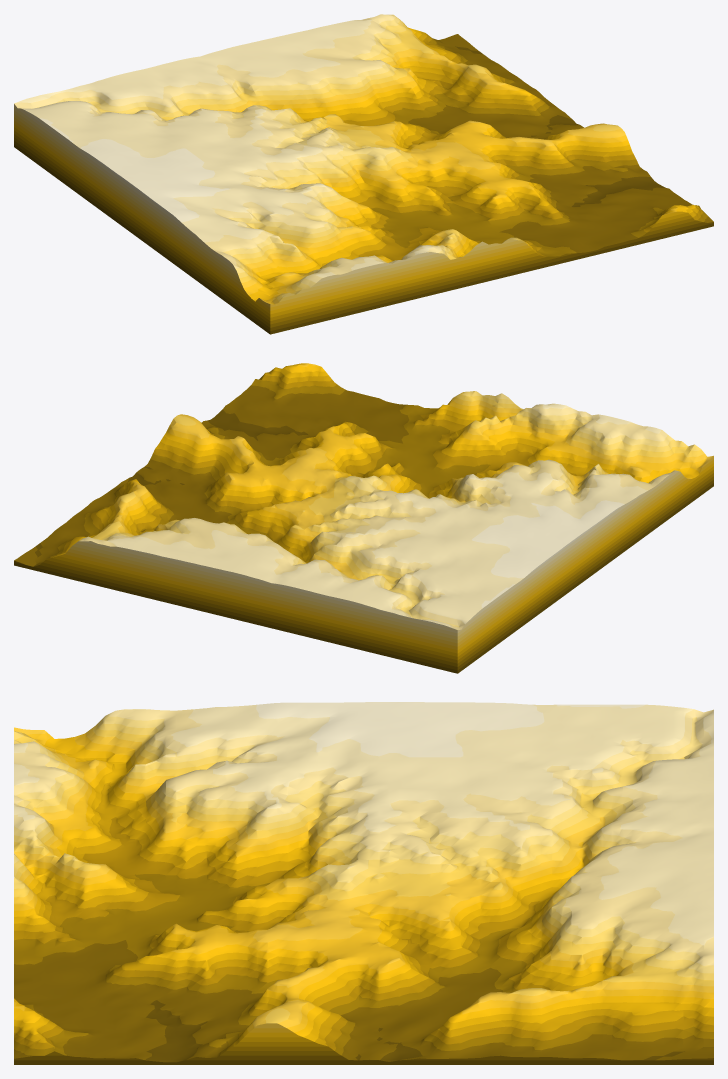
File: TerrainGradient2.dae
3 renders of one model, top to bottom at view 1: azimuth 30°, elevation 25°; view 2: azimuth 150°, elevation 25°; view 3: azimuth 270°, elevation 25°, orthographic. The views are drawn at different scales.
Visible parts, largest first — view 1: Terrain, Bounding_box; view 2: Terrain, Bounding_box; view 3: Terrain, Bounding_box.
Part boxes in pixels (<box>): Terrain: <box>14,14,713,305</box>; Bounding_box: <box>14,104,713,334</box>; Terrain: <box>14,363,713,629</box>; Bounding_box: <box>14,456,713,673</box>; Terrain: <box>14,702,713,1062</box>; Bounding_box: <box>14,1023,713,1064</box>.
Bounding box in the file's own units: 69 × 69 × 7.29.
